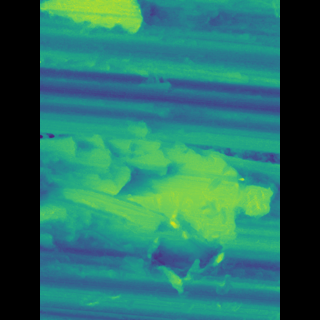Loch: (69, 120, 252, 304), (71, 0, 150, 36)
